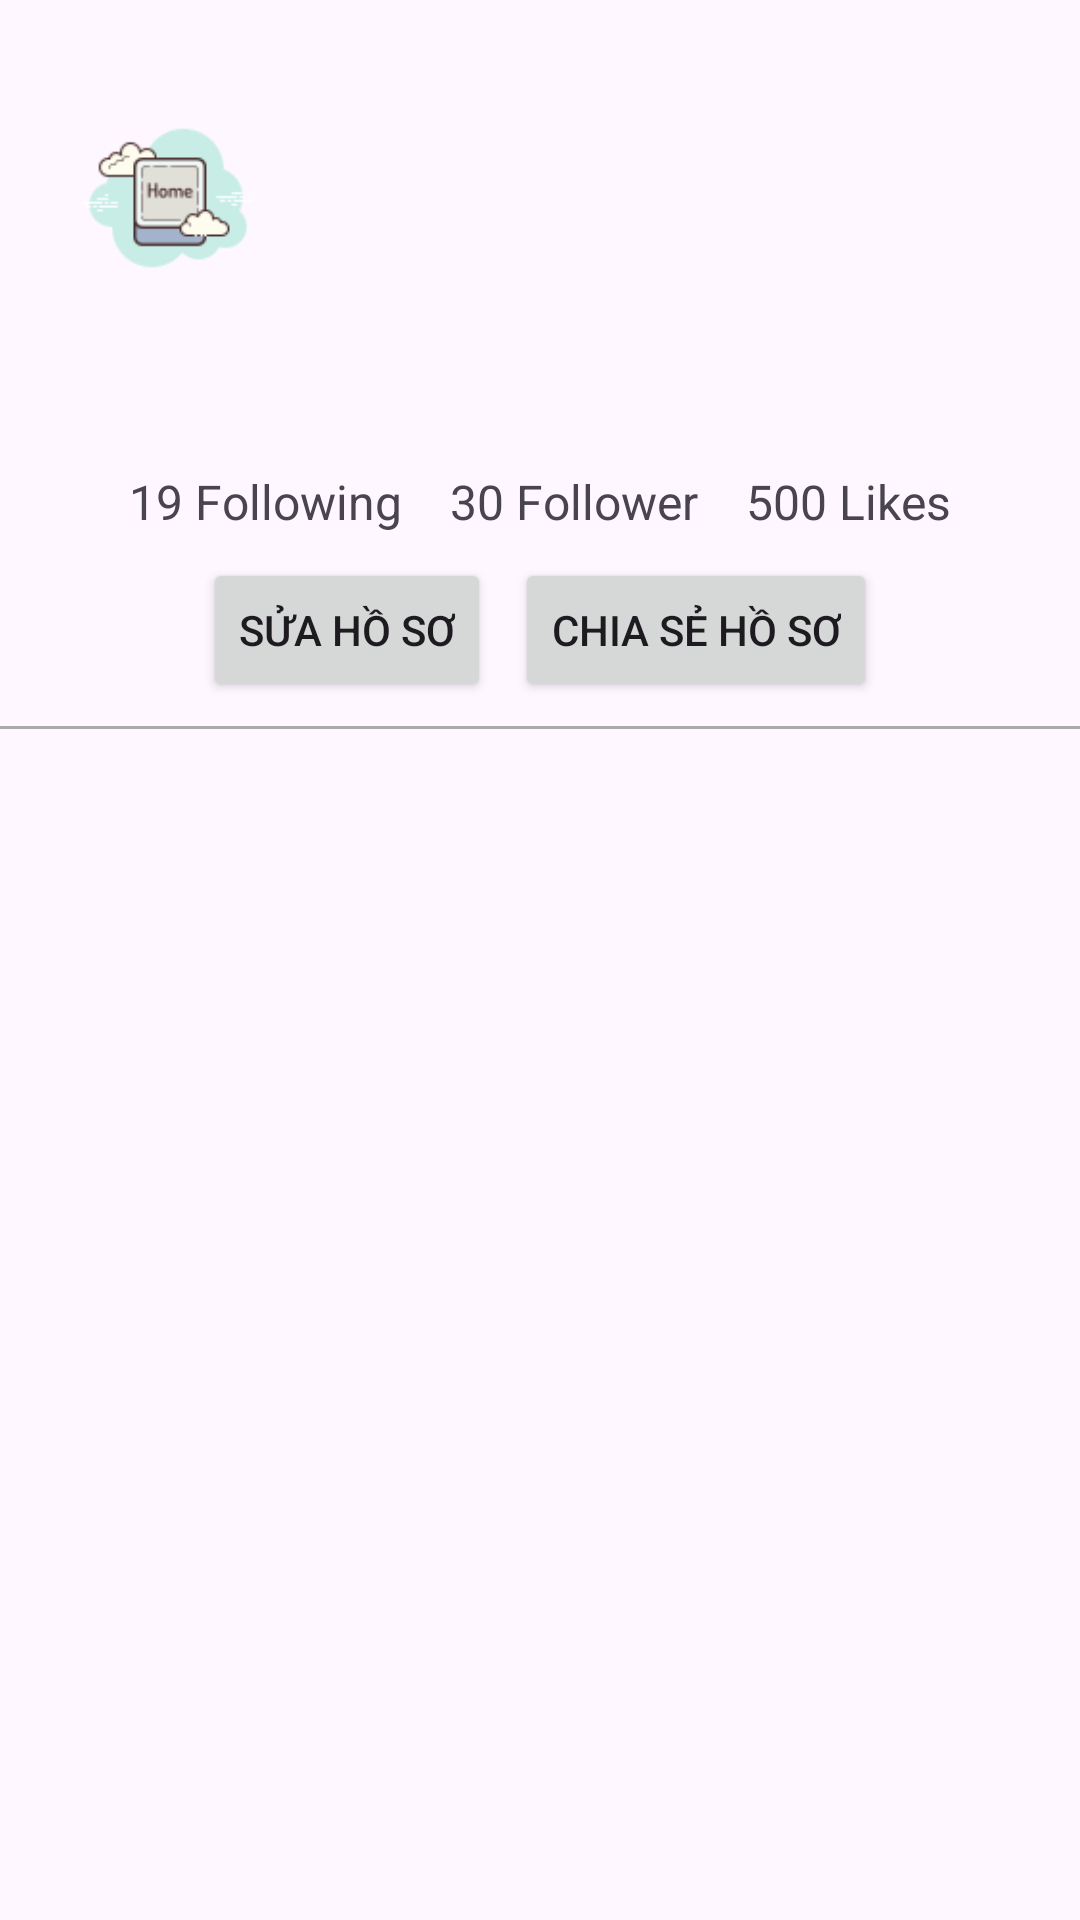

Where icons sit on this 1080px×1920px app screen, as (x1, y1, x2, y2):
Back to Home: (89, 129, 247, 267)
